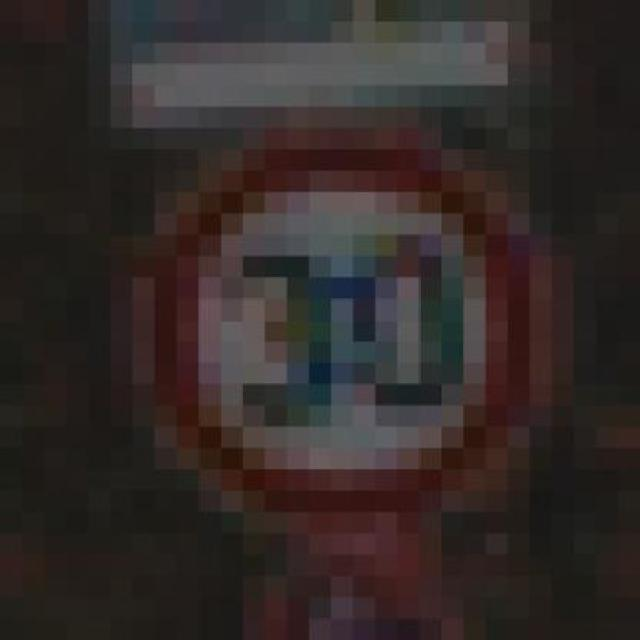Speed Limit 30 KMPh: (66, 150, 619, 556)
